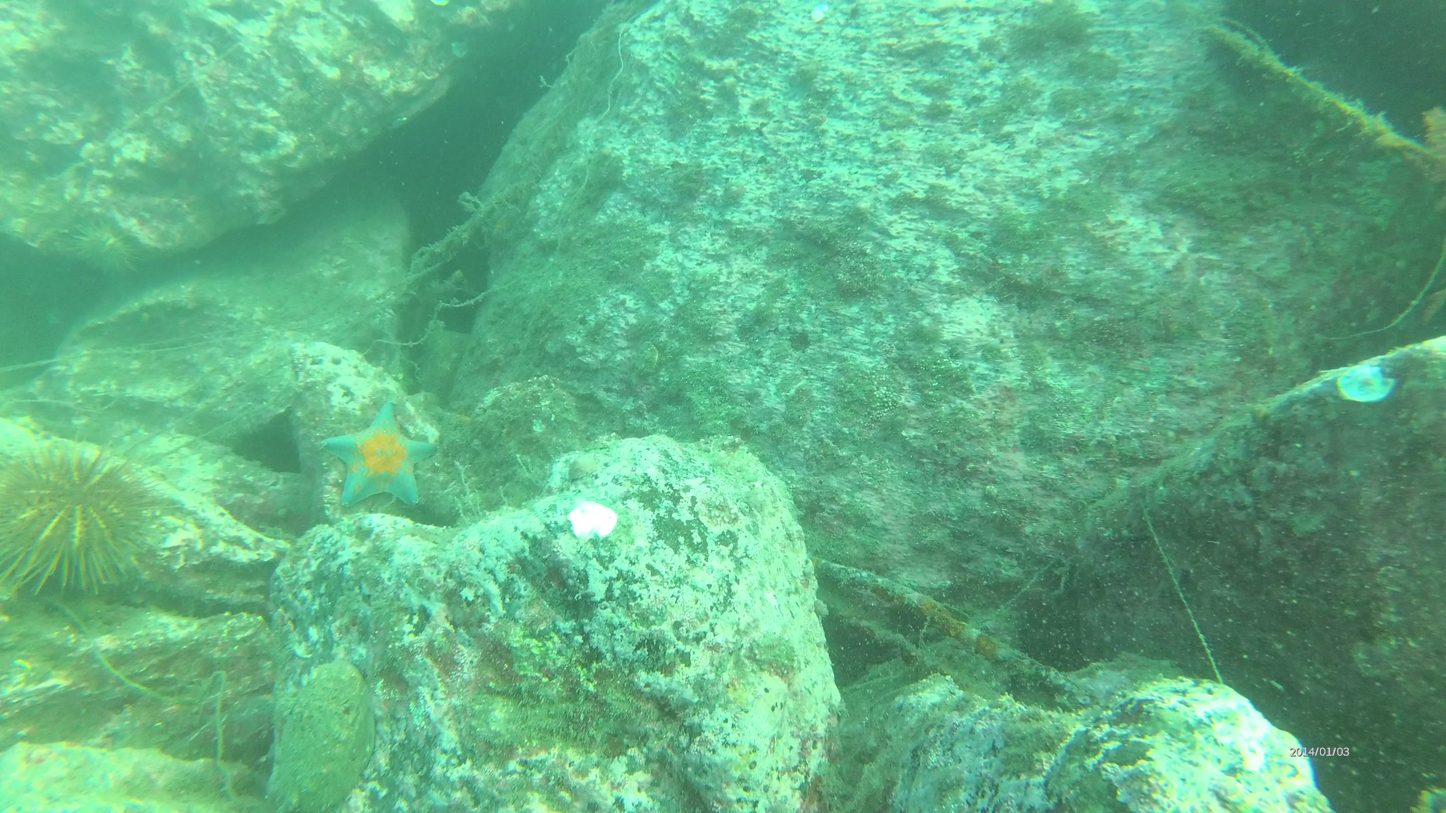holothurian: (315, 403, 441, 508)
scallop: (1338, 358, 1399, 407)
starfish: (0, 442, 172, 594), (68, 222, 139, 277)
